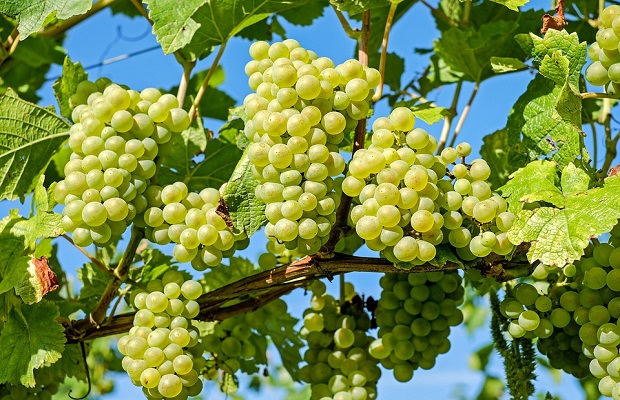Green grapes: (252, 44, 337, 257), (67, 93, 166, 242), (366, 118, 442, 270), (440, 148, 520, 260), (380, 269, 460, 380), (304, 291, 382, 400), (130, 278, 193, 392), (164, 188, 236, 261)
